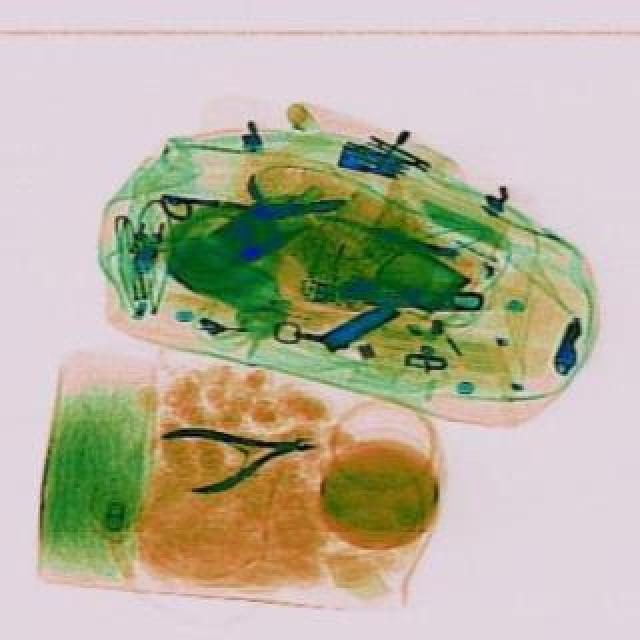wrench: (156, 406, 320, 498)
